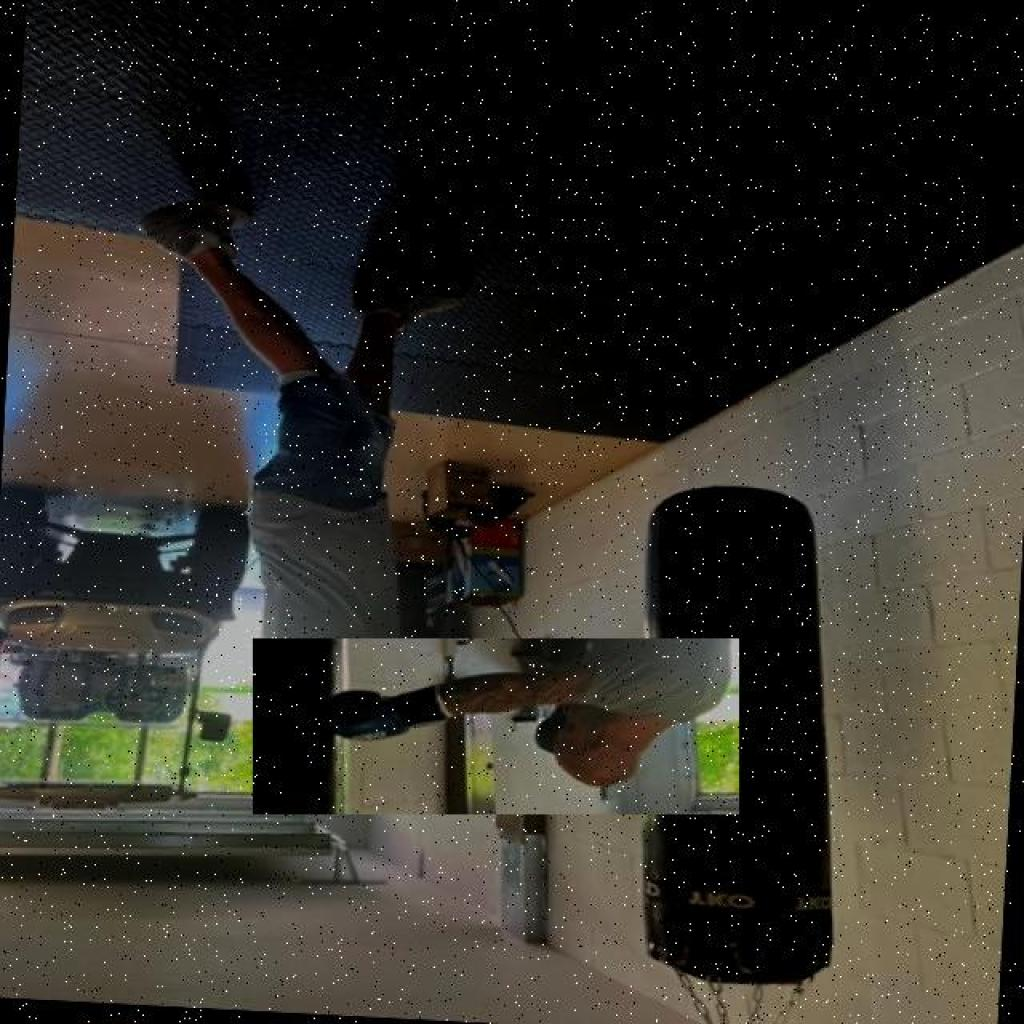cross: (253, 638, 740, 814)
